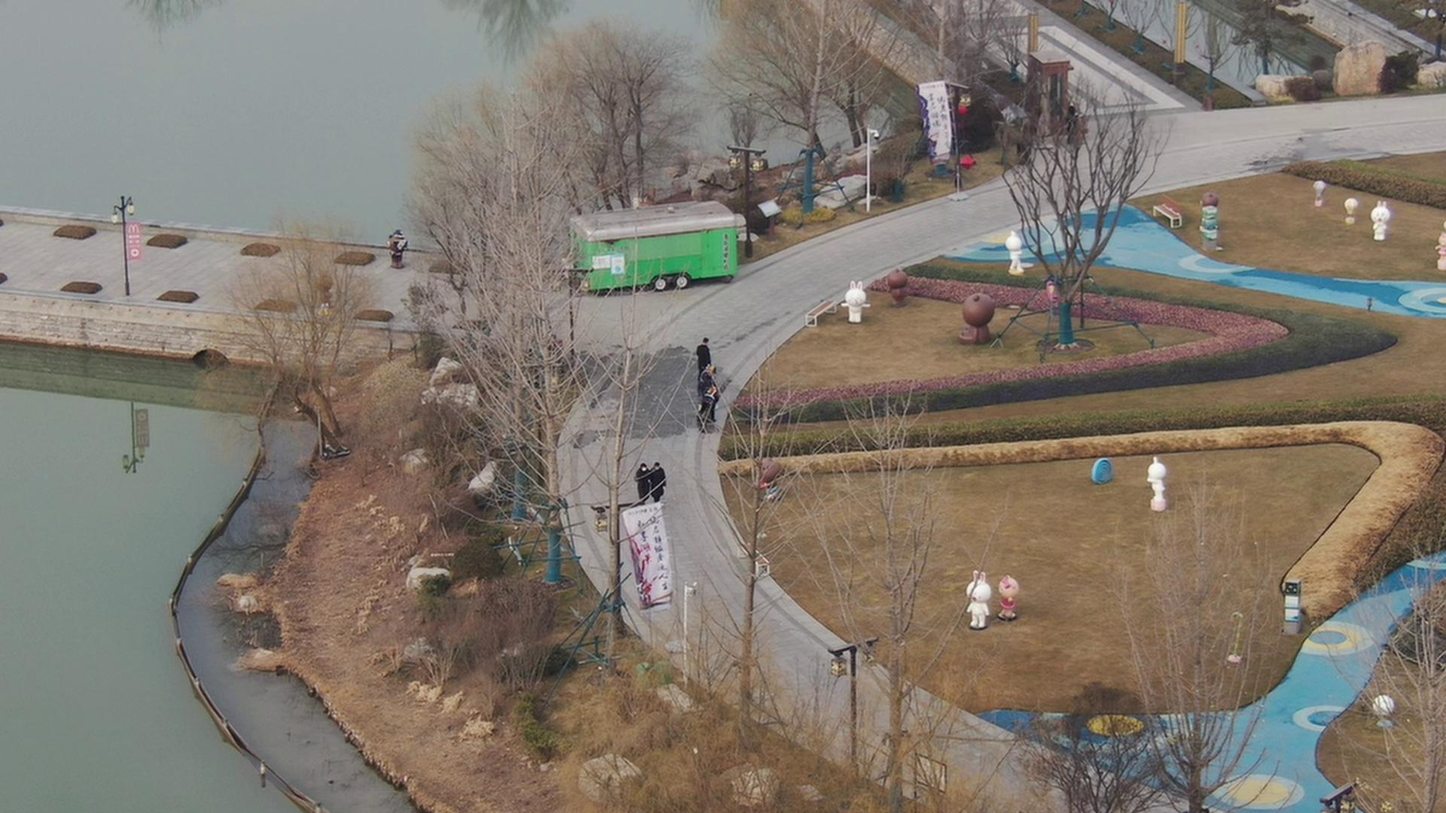class_2: (633, 455, 669, 510), (694, 373, 722, 430)
human: (685, 336, 713, 386)
